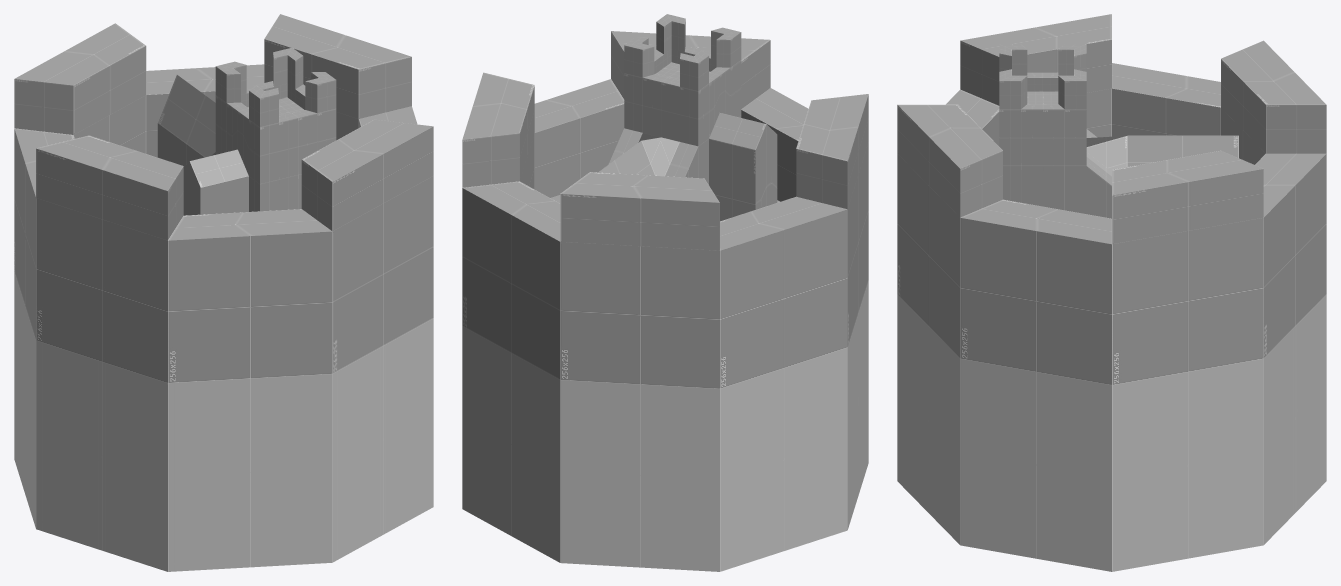
File: fort.glb
The picture shows the model from 3 angles, left to right: view 1: azimuth 30°, elevation 25°; view 2: azimuth 150°, elevation 25°; view 3: azimuth 270°, elevation 25°; orthographic projection. The views are drawn at different scales.
Visible parts, largest first — view 1: town; view 2: town; view 3: town.
Boxes of the visible parts, <box> form: town: <box>14,14,433,571</box>; town: <box>462,14,868,571</box>; town: <box>897,14,1326,571</box>.
Bounding box in the file's own units: 8 × 8.78 × 8.
1 material, 1 textured.
